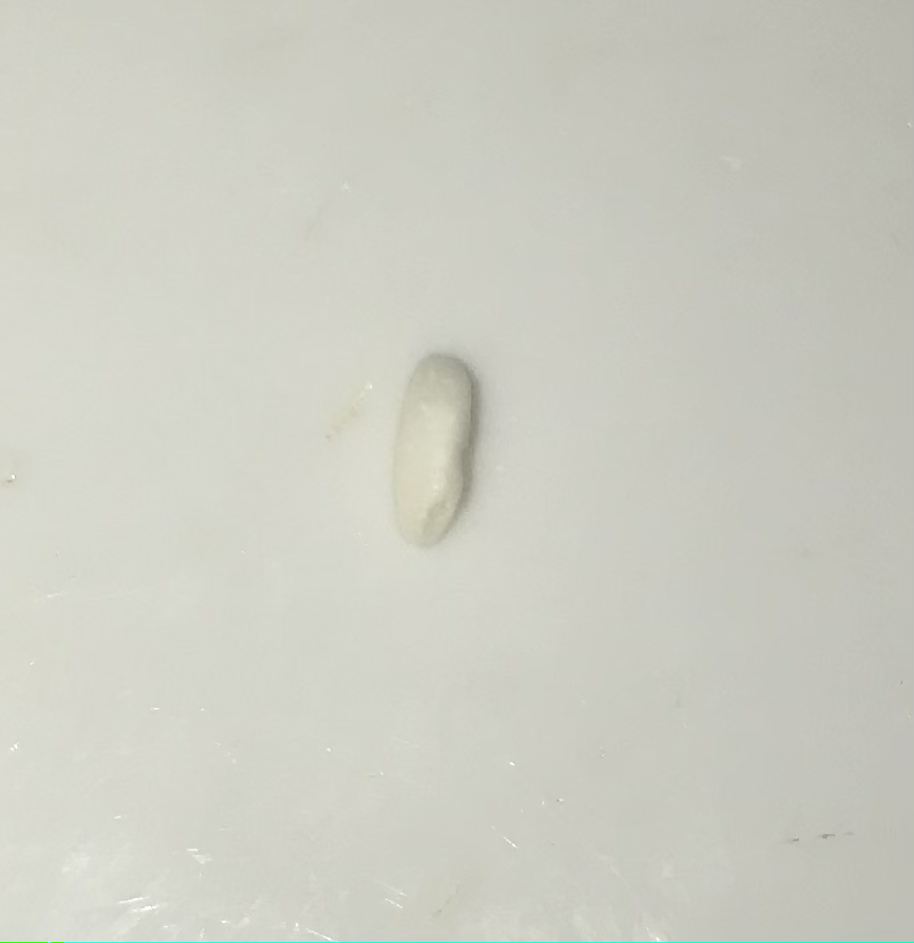Gao Nep Sap: (390, 341, 499, 575)
